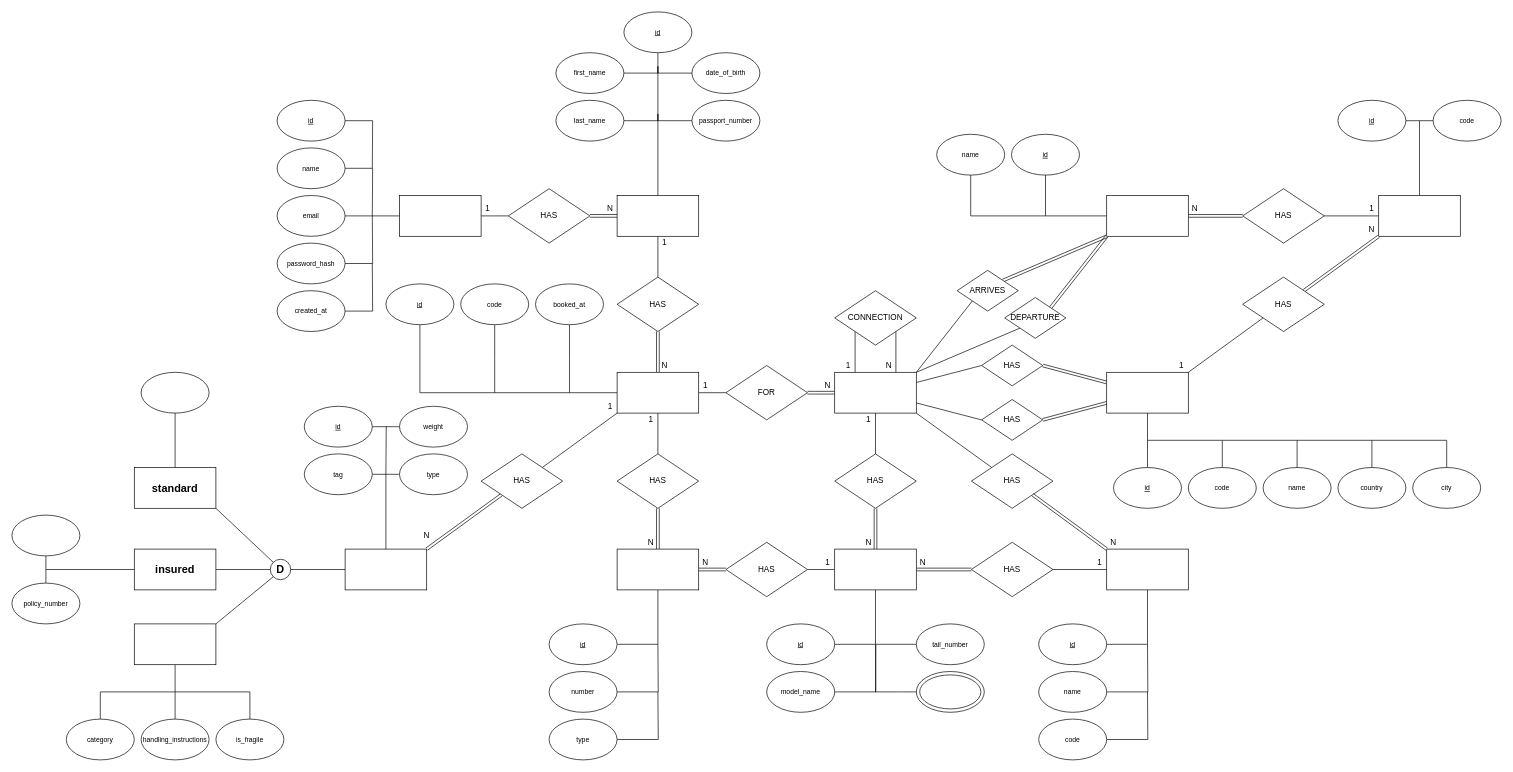
This 1513x772 diagram has some shape labels left out. The shapes that lost their labels are listed below. From the top down, each one's box as (x1, y1, x2, y2) in pixels, then its label:
(399, 195, 481, 236): user
(616, 195, 699, 236): passenger
(1106, 195, 1188, 236): gate
(1378, 195, 1460, 236): terminal
(140, 372, 209, 413): dimensions_cm
(616, 372, 699, 413): ticket
(834, 372, 916, 413): flight
(1106, 372, 1188, 413): airport
(11, 514, 80, 556): insurance_amount
(344, 548, 427, 590): baggage
(616, 548, 699, 590): seat
(834, 548, 916, 590): plane
(1106, 548, 1188, 590): airline
(134, 623, 216, 665): special
(919, 674, 981, 709): features
